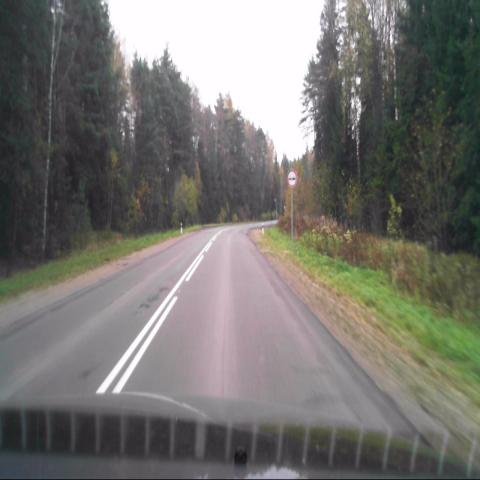3_20: (286, 169, 296, 188)
